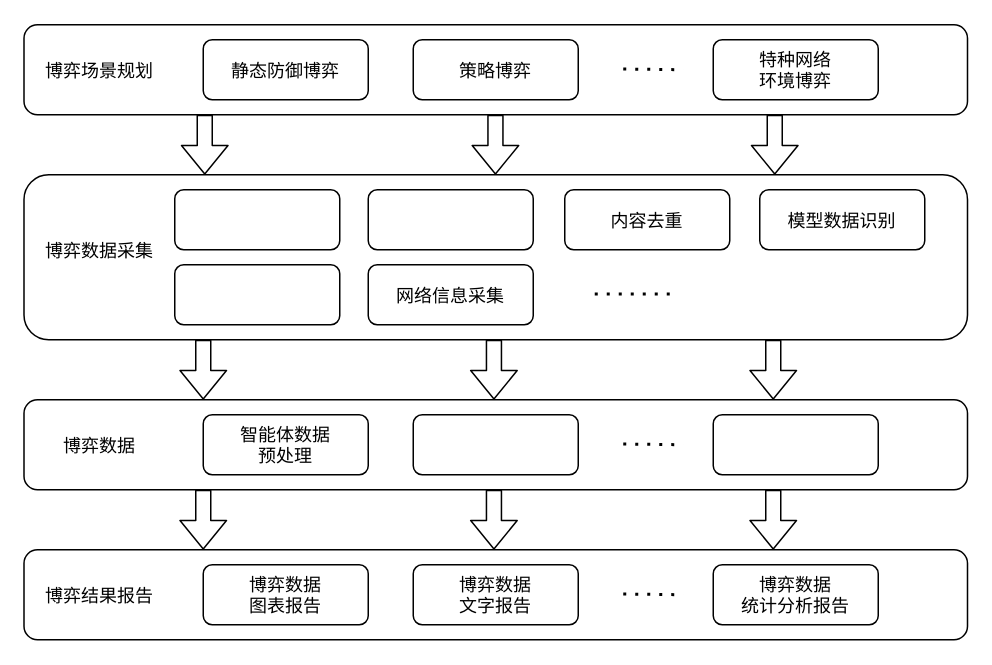
This 992x665 diagram has some shape labels left out. The centre of each missing label's shape, as x and y in pixels:
关键词抽取: (x=450, y=219)
对抗数据 预处理: (x=795, y=444)
智能体状态读取: (x=256, y=294)
编码识别: (x=256, y=219)
网络数据 预处理: (x=495, y=444)
